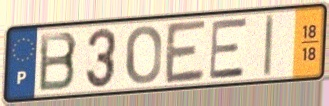3: (83, 26, 117, 90)
B: (37, 29, 80, 94)
E: (163, 17, 209, 87), (207, 16, 248, 82)
I: (262, 12, 276, 79)
O: (124, 24, 163, 87)
